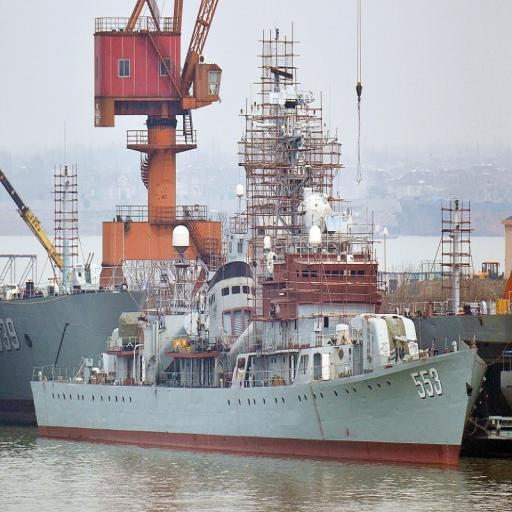Fragata: (28, 174, 494, 472)
